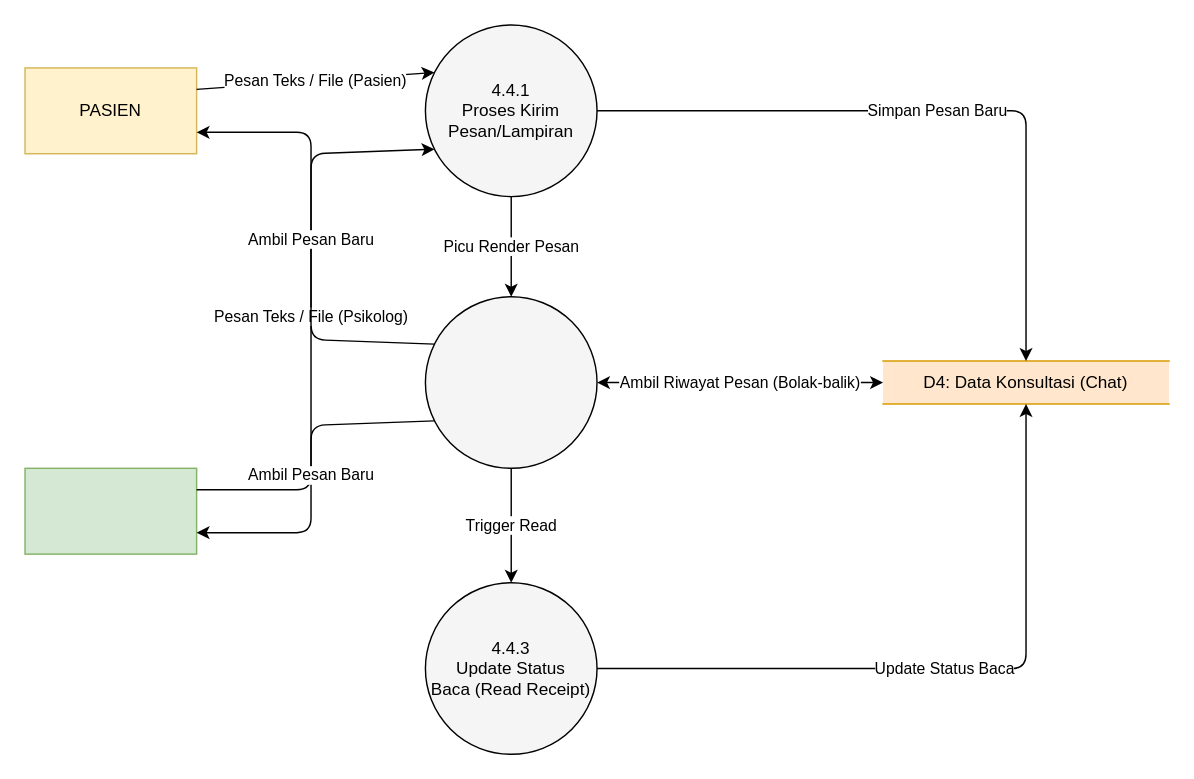
The diagram is 1194 pixels wide and 779 high, and some of its shapes have lost their labels. Here are the shapes that lost their labels. From the top down, the centre of each, then its label:
point (510, 381): 4.4.2 Distribusi Pesan & Realtime Fetch
point (110, 510): PSIKOLOG
